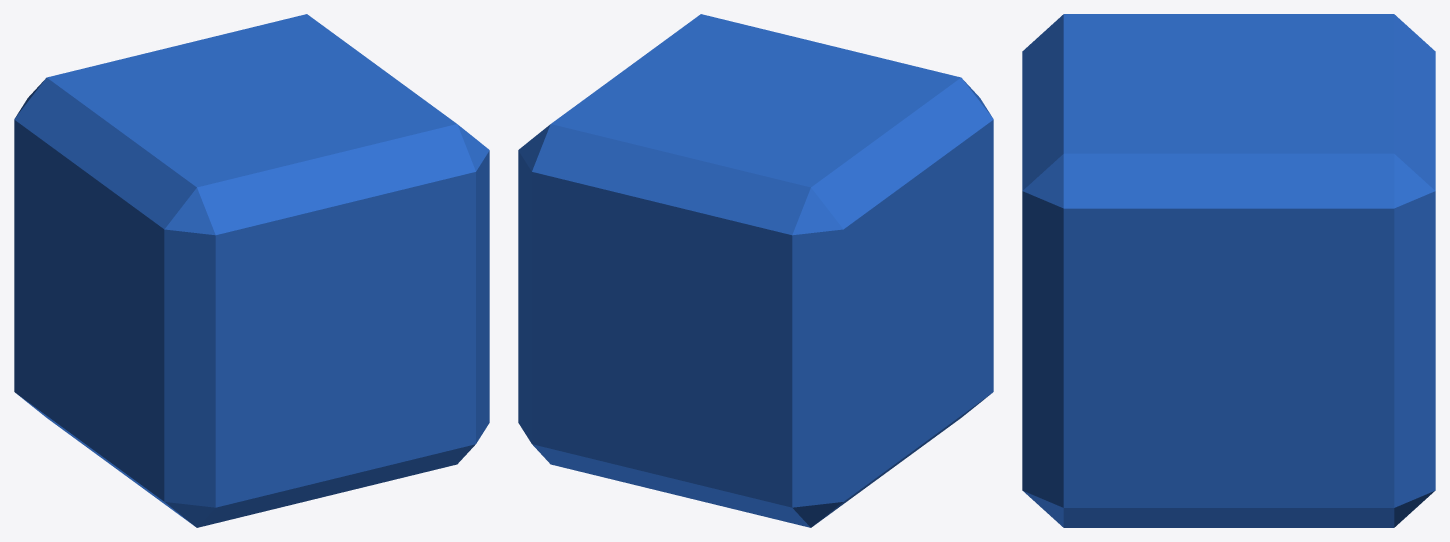
The model's file is tb_block_blue.glb.
3 renders of one model, left to right at view 1: azimuth 30°, elevation 25°; view 2: azimuth 150°, elevation 25°; view 3: azimuth 270°, elevation 25°, orthographic. The views are drawn at different scales.
Parts seen in each view (by area): view 1: Cube; view 2: Cube; view 3: Cube.
Boxes of the visible parts, <box> form: Cube: <box>14,14,489,527</box>; Cube: <box>518,14,993,527</box>; Cube: <box>1022,14,1435,527</box>.
Bounding box in the file's own units: 1.5 × 1.5 × 1.5.
